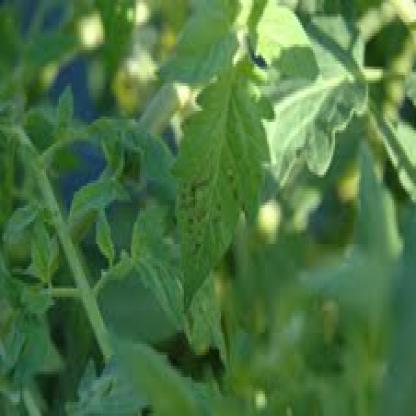Tomato leaf late blight: (168, 41, 280, 322)
